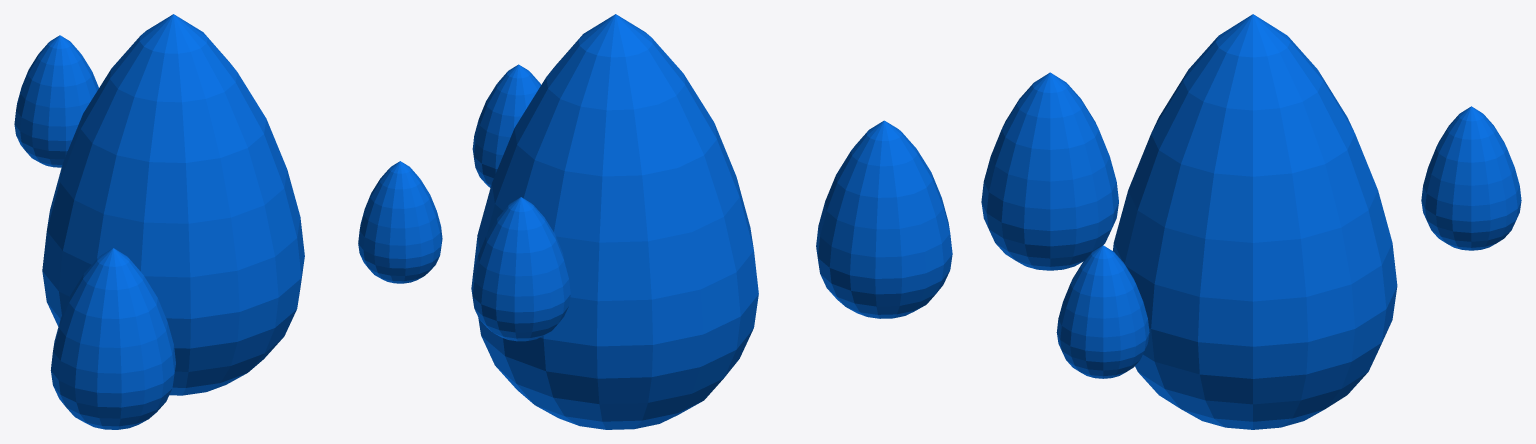
Rendered from WaterSprite_3.glb.
The picture shows the model from 3 angles, left to right: view 1: azimuth 30°, elevation 25°; view 2: azimuth 150°, elevation 25°; view 3: azimuth 270°, elevation 25°; orthographic projection. The views are drawn at different scales.
Visible parts, largest first — view 1: 球体, 球体.003, 球体.001, 球体.004; view 2: 球体, 球体.003, 球体.004, 球体.001; view 3: 球体, 球体.003, 球体.004, 球体.001.
Part boxes in pixels (x1=…): 球体: x1=42, y1=14, x2=304, y2=395; 球体.003: x1=50, y1=248, x2=175, y2=429; 球体.001: x1=358, y1=161, x2=442, y2=283; 球体.004: x1=14, y1=35, x2=98, y2=167; 球体: x1=473, y1=14, x2=758, y2=429; 球体.003: x1=816, y1=120, x2=952, y2=318; 球体.004: x1=471, y1=197, x2=570, y2=341; 球体.001: x1=472, y1=64, x2=540, y2=187; 球体: x1=1113, y1=14, x2=1397, y2=429; 球体.003: x1=981, y1=72, x2=1118, y2=270; 球体.004: x1=1421, y1=106, x2=1521, y2=250; 球体.001: x1=1056, y1=245, x2=1149, y2=378.
Bounding box in the file's own units: 3.83 × 3.36 × 4.08.
